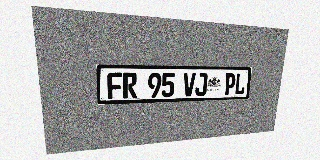5: (161, 73, 175, 97)
9: (148, 73, 162, 98)
F: (107, 72, 122, 99)
J: (195, 73, 208, 96)
L: (234, 73, 246, 95)
P: (224, 73, 236, 95)
R: (123, 73, 137, 98)
V: (183, 73, 196, 97)
